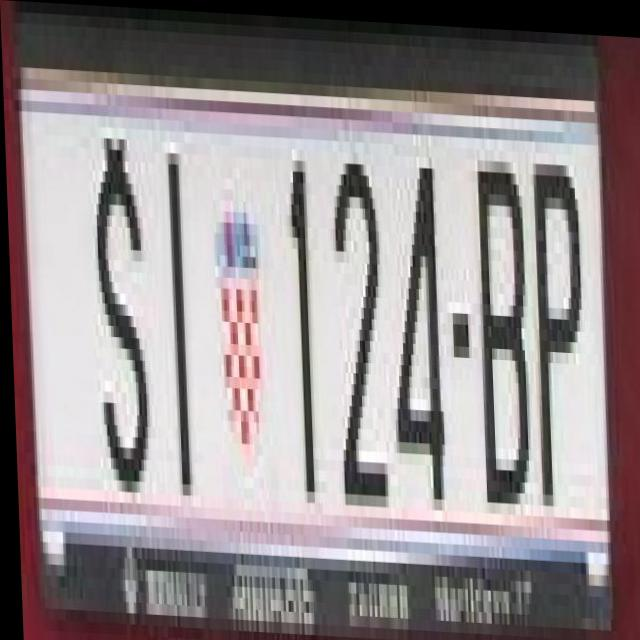1: (280, 112, 319, 489)
2: (323, 125, 387, 503)
4: (384, 128, 449, 506)
B: (468, 132, 528, 509)
P: (526, 135, 588, 512)
S: (89, 115, 149, 481)
